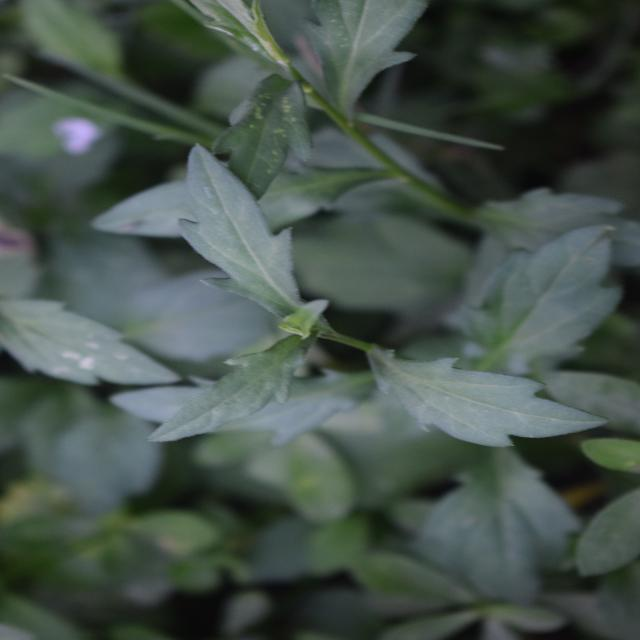Indian aster: (183, 120, 479, 601)
